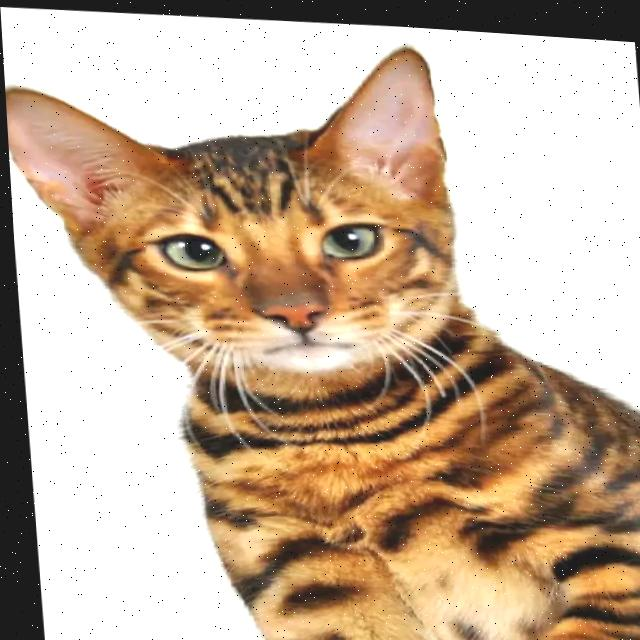Toyger: (0, 8, 640, 640)
